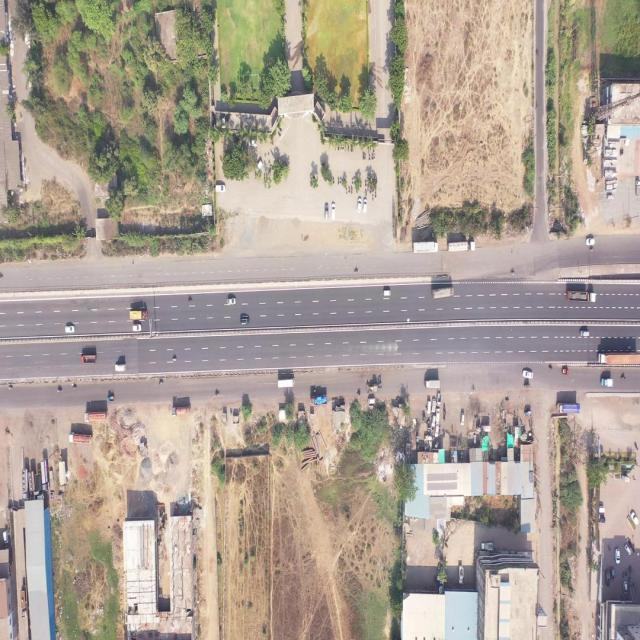3W: (523, 407, 532, 417), (561, 367, 569, 376), (107, 395, 115, 403), (523, 383, 530, 389)
Bus: (276, 376, 296, 389)
Cars: (630, 509, 640, 527), (522, 367, 535, 380), (330, 199, 336, 222), (239, 315, 251, 326), (579, 327, 591, 338), (585, 234, 595, 247), (248, 136, 258, 148), (323, 202, 329, 222), (614, 547, 621, 564), (255, 159, 263, 173), (64, 326, 75, 336), (226, 296, 237, 306), (381, 289, 392, 299), (624, 543, 632, 556), (215, 184, 226, 193), (362, 198, 368, 214), (605, 569, 610, 588), (622, 580, 628, 595), (132, 323, 142, 332), (608, 336, 619, 344), (357, 196, 361, 215), (426, 399, 431, 414), (460, 412, 465, 426), (436, 407, 440, 423), (432, 397, 436, 412), (432, 415, 436, 428)
LCV: (479, 541, 494, 552), (457, 563, 464, 585), (114, 362, 127, 372)
M2W: (510, 269, 516, 277), (547, 362, 553, 370), (353, 266, 359, 274), (187, 297, 193, 304), (356, 389, 362, 396), (213, 390, 220, 396), (57, 386, 62, 394), (621, 374, 626, 381), (590, 247, 595, 254), (72, 385, 78, 390), (172, 357, 178, 362), (351, 177, 354, 186), (371, 192, 374, 201), (312, 388, 317, 393), (346, 144, 349, 152), (332, 176, 335, 184), (350, 187, 353, 195), (368, 154, 371, 161), (364, 178, 366, 188), (364, 151, 366, 161), (337, 176, 339, 185), (348, 185, 350, 194), (266, 172, 268, 181), (341, 177, 343, 186), (342, 144, 344, 152), (372, 152, 374, 160), (346, 187, 348, 195)
MAV: (595, 350, 640, 366), (565, 290, 598, 303), (447, 240, 476, 253)
Truck: (68, 430, 94, 445), (431, 285, 454, 300), (412, 241, 438, 254), (83, 411, 108, 423), (557, 402, 580, 415), (310, 394, 328, 408), (171, 405, 190, 418), (129, 309, 148, 322), (600, 374, 616, 388), (80, 352, 97, 365), (424, 379, 442, 390)
